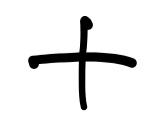plus: (28, 16, 137, 110)
